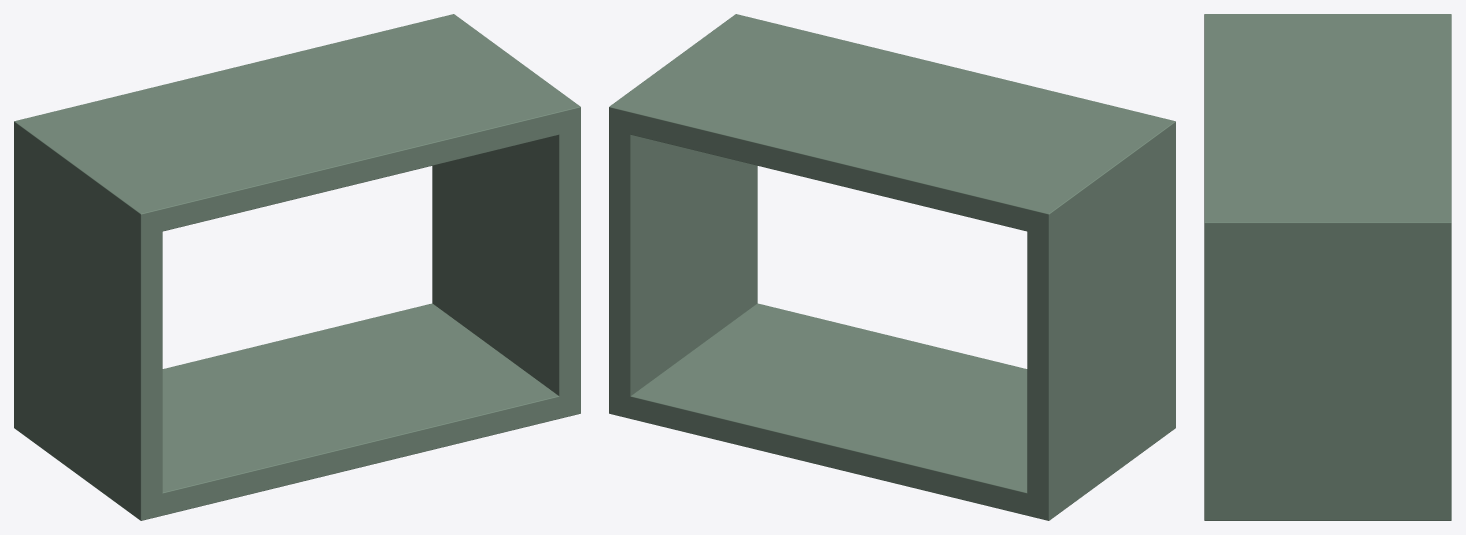
The model's file is MODH_1X07_A_O_VA.glb.
3 renders of one model, left to right at view 1: azimuth 30°, elevation 25°; view 2: azimuth 150°, elevation 25°; view 3: azimuth 270°, elevation 25°, orthographic. The views are drawn at different scales.
Bounding box in the file's own units: 360 × 240 × 180.
